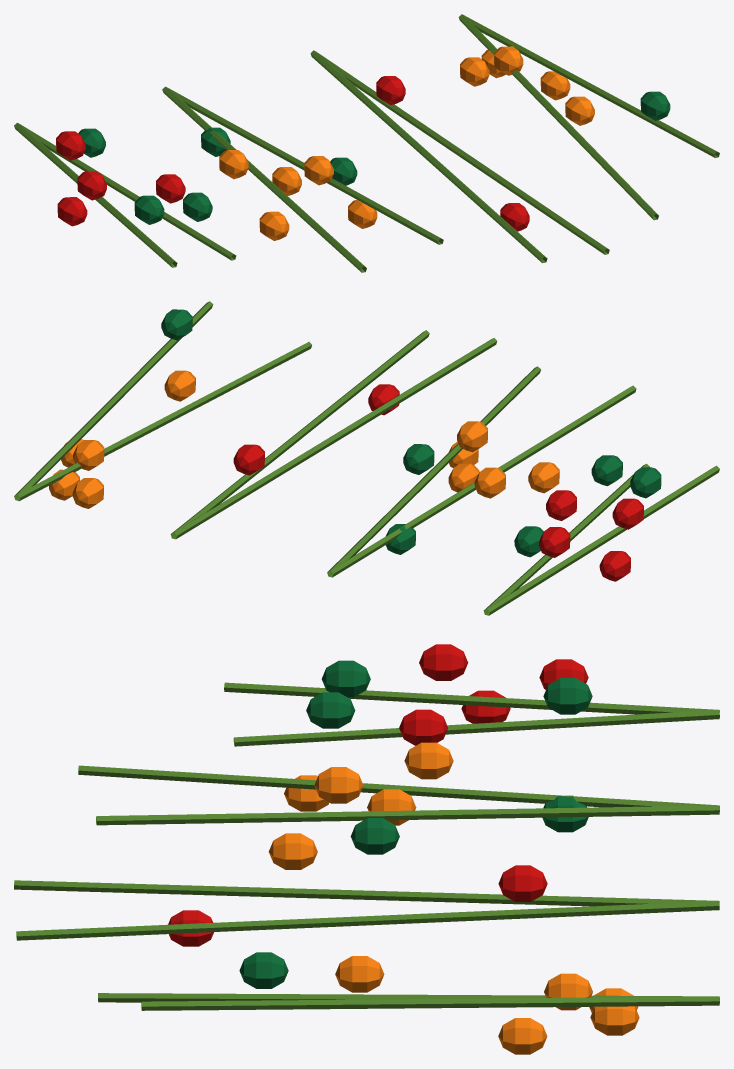
File: r10c5_stems.obj
3 renders of one model, top to bottom at view 1: azimuth 30°, elevation 25°; view 2: azimuth 150°, elevation 25°; view 3: azimuth 270°, elevation 25°, orthographic. The views are drawn at different scales.
Parts seen in each view (by area): view 1: r10c5_stems; view 2: r10c5_stems; view 3: r10c5_stems.
Part boxes in pixels (left/top/right/bottom): r10c5_stems: left=14, top=14, right=719, bottom=272; r10c5_stems: left=14, top=301, right=719, bottom=615; r10c5_stems: left=14, top=644, right=719, bottom=1054.
Size of the model in its own units: 1.64 by 0.2246 by 1.43.
